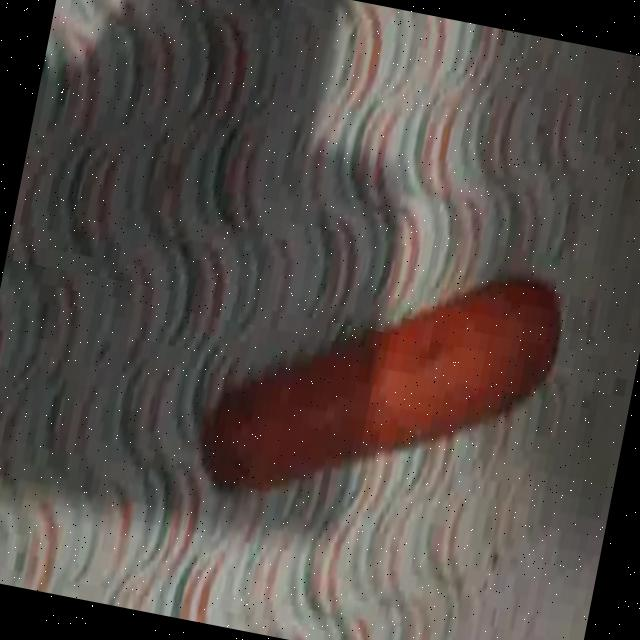carrot: (203, 281, 560, 489)
